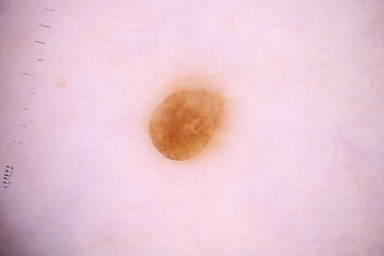nevus: (147, 90, 225, 162)
